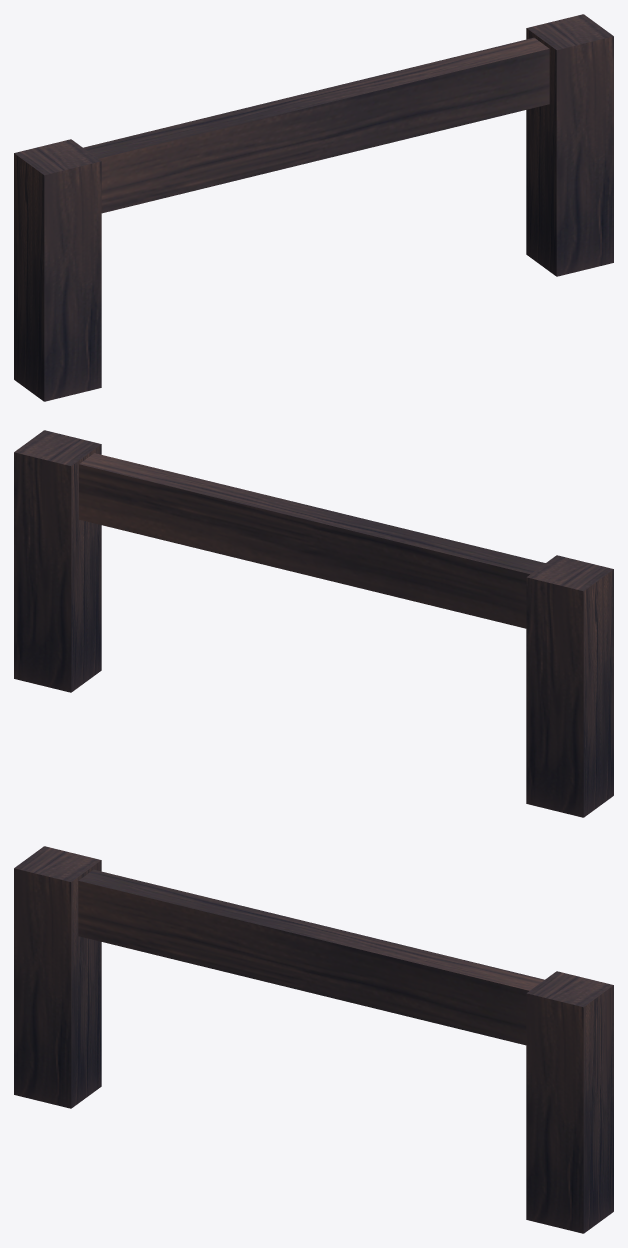
File: Fence_A.fbx
3 renders of one model, top to bottom at view 1: azimuth 30°, elevation 25°; view 2: azimuth 150°, elevation 25°; view 3: azimuth 330°, elevation 25°, orthographic.
Parts seen in each view (by area): view 1: Fence_A; view 2: Fence_A; view 3: Fence_A.
Boxes of the visible parts, x1,y1,x2,y2 form: Fence_A: [14, 14, 613, 401]; Fence_A: [14, 430, 613, 817]; Fence_A: [14, 846, 613, 1233].
Size of the model in its own units: 0.3592 by 0.1365 by 0.0331.
